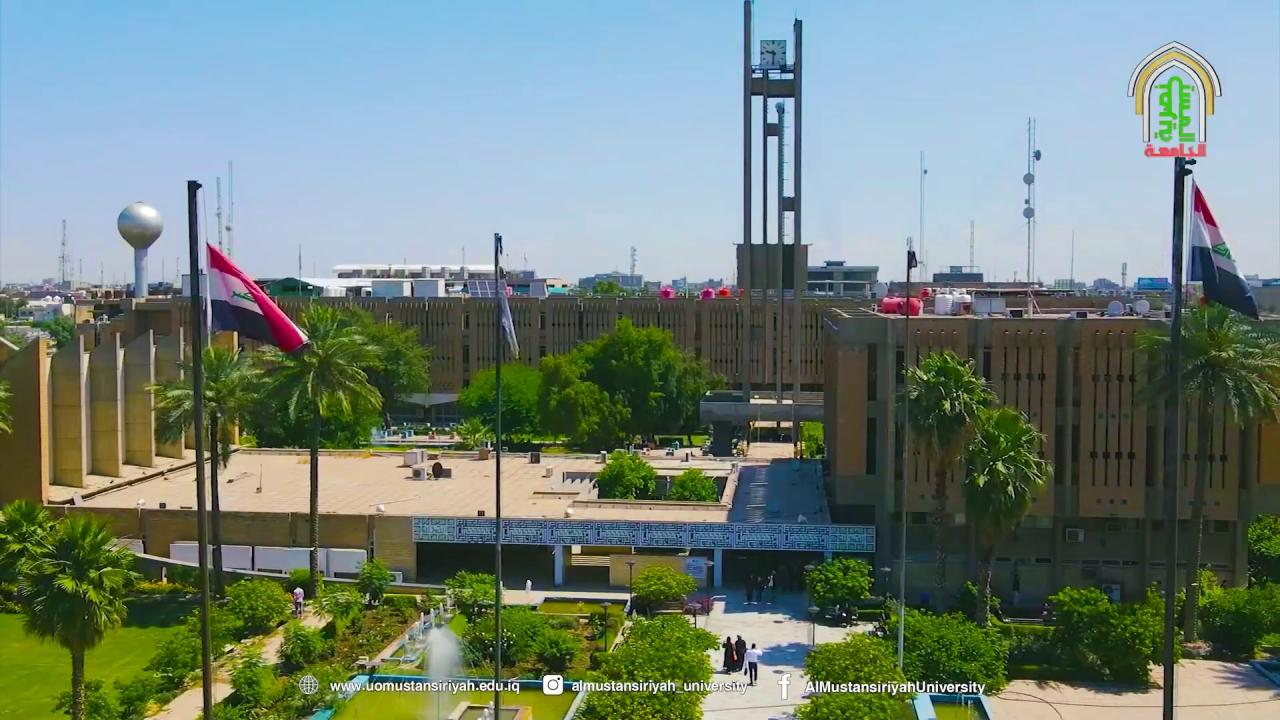fountain: (310, 600, 574, 719), (404, 601, 472, 719), (418, 622, 464, 682), (910, 690, 990, 719)
person: (743, 642, 762, 685), (733, 634, 747, 672), (721, 635, 735, 672), (291, 586, 305, 619), (744, 573, 755, 604), (755, 576, 765, 604), (1041, 602, 1049, 625)
tree: (1130, 296, 1278, 645), (257, 301, 386, 596), (142, 342, 267, 599), (13, 510, 142, 718), (892, 347, 997, 589), (538, 315, 725, 450), (957, 404, 1054, 626), (1130, 295, 1278, 430), (573, 611, 721, 718), (1045, 581, 1184, 687), (881, 597, 1013, 697), (340, 304, 434, 438), (793, 630, 918, 719), (533, 351, 630, 450), (144, 604, 242, 689), (456, 360, 542, 449), (1045, 584, 1119, 674), (0, 496, 57, 611), (458, 603, 549, 675), (443, 569, 506, 672), (802, 555, 874, 617), (223, 576, 290, 634), (629, 563, 697, 617), (594, 449, 656, 500), (443, 568, 503, 620), (274, 618, 332, 668), (527, 626, 580, 677), (1246, 511, 1279, 587), (957, 576, 1002, 627), (664, 466, 719, 502), (355, 557, 392, 606), (452, 415, 495, 450), (286, 567, 324, 598), (796, 419, 825, 458)
